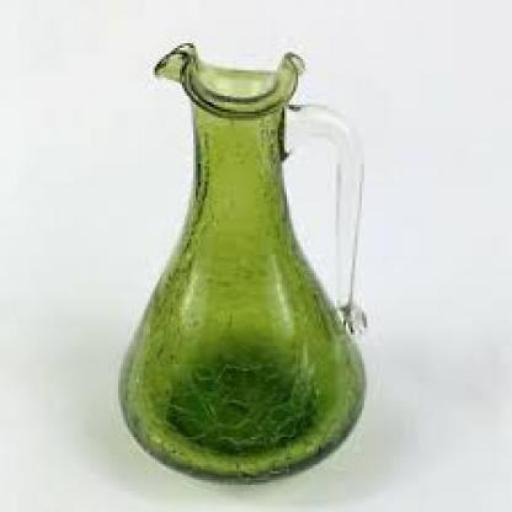glass: (116, 41, 371, 485)
